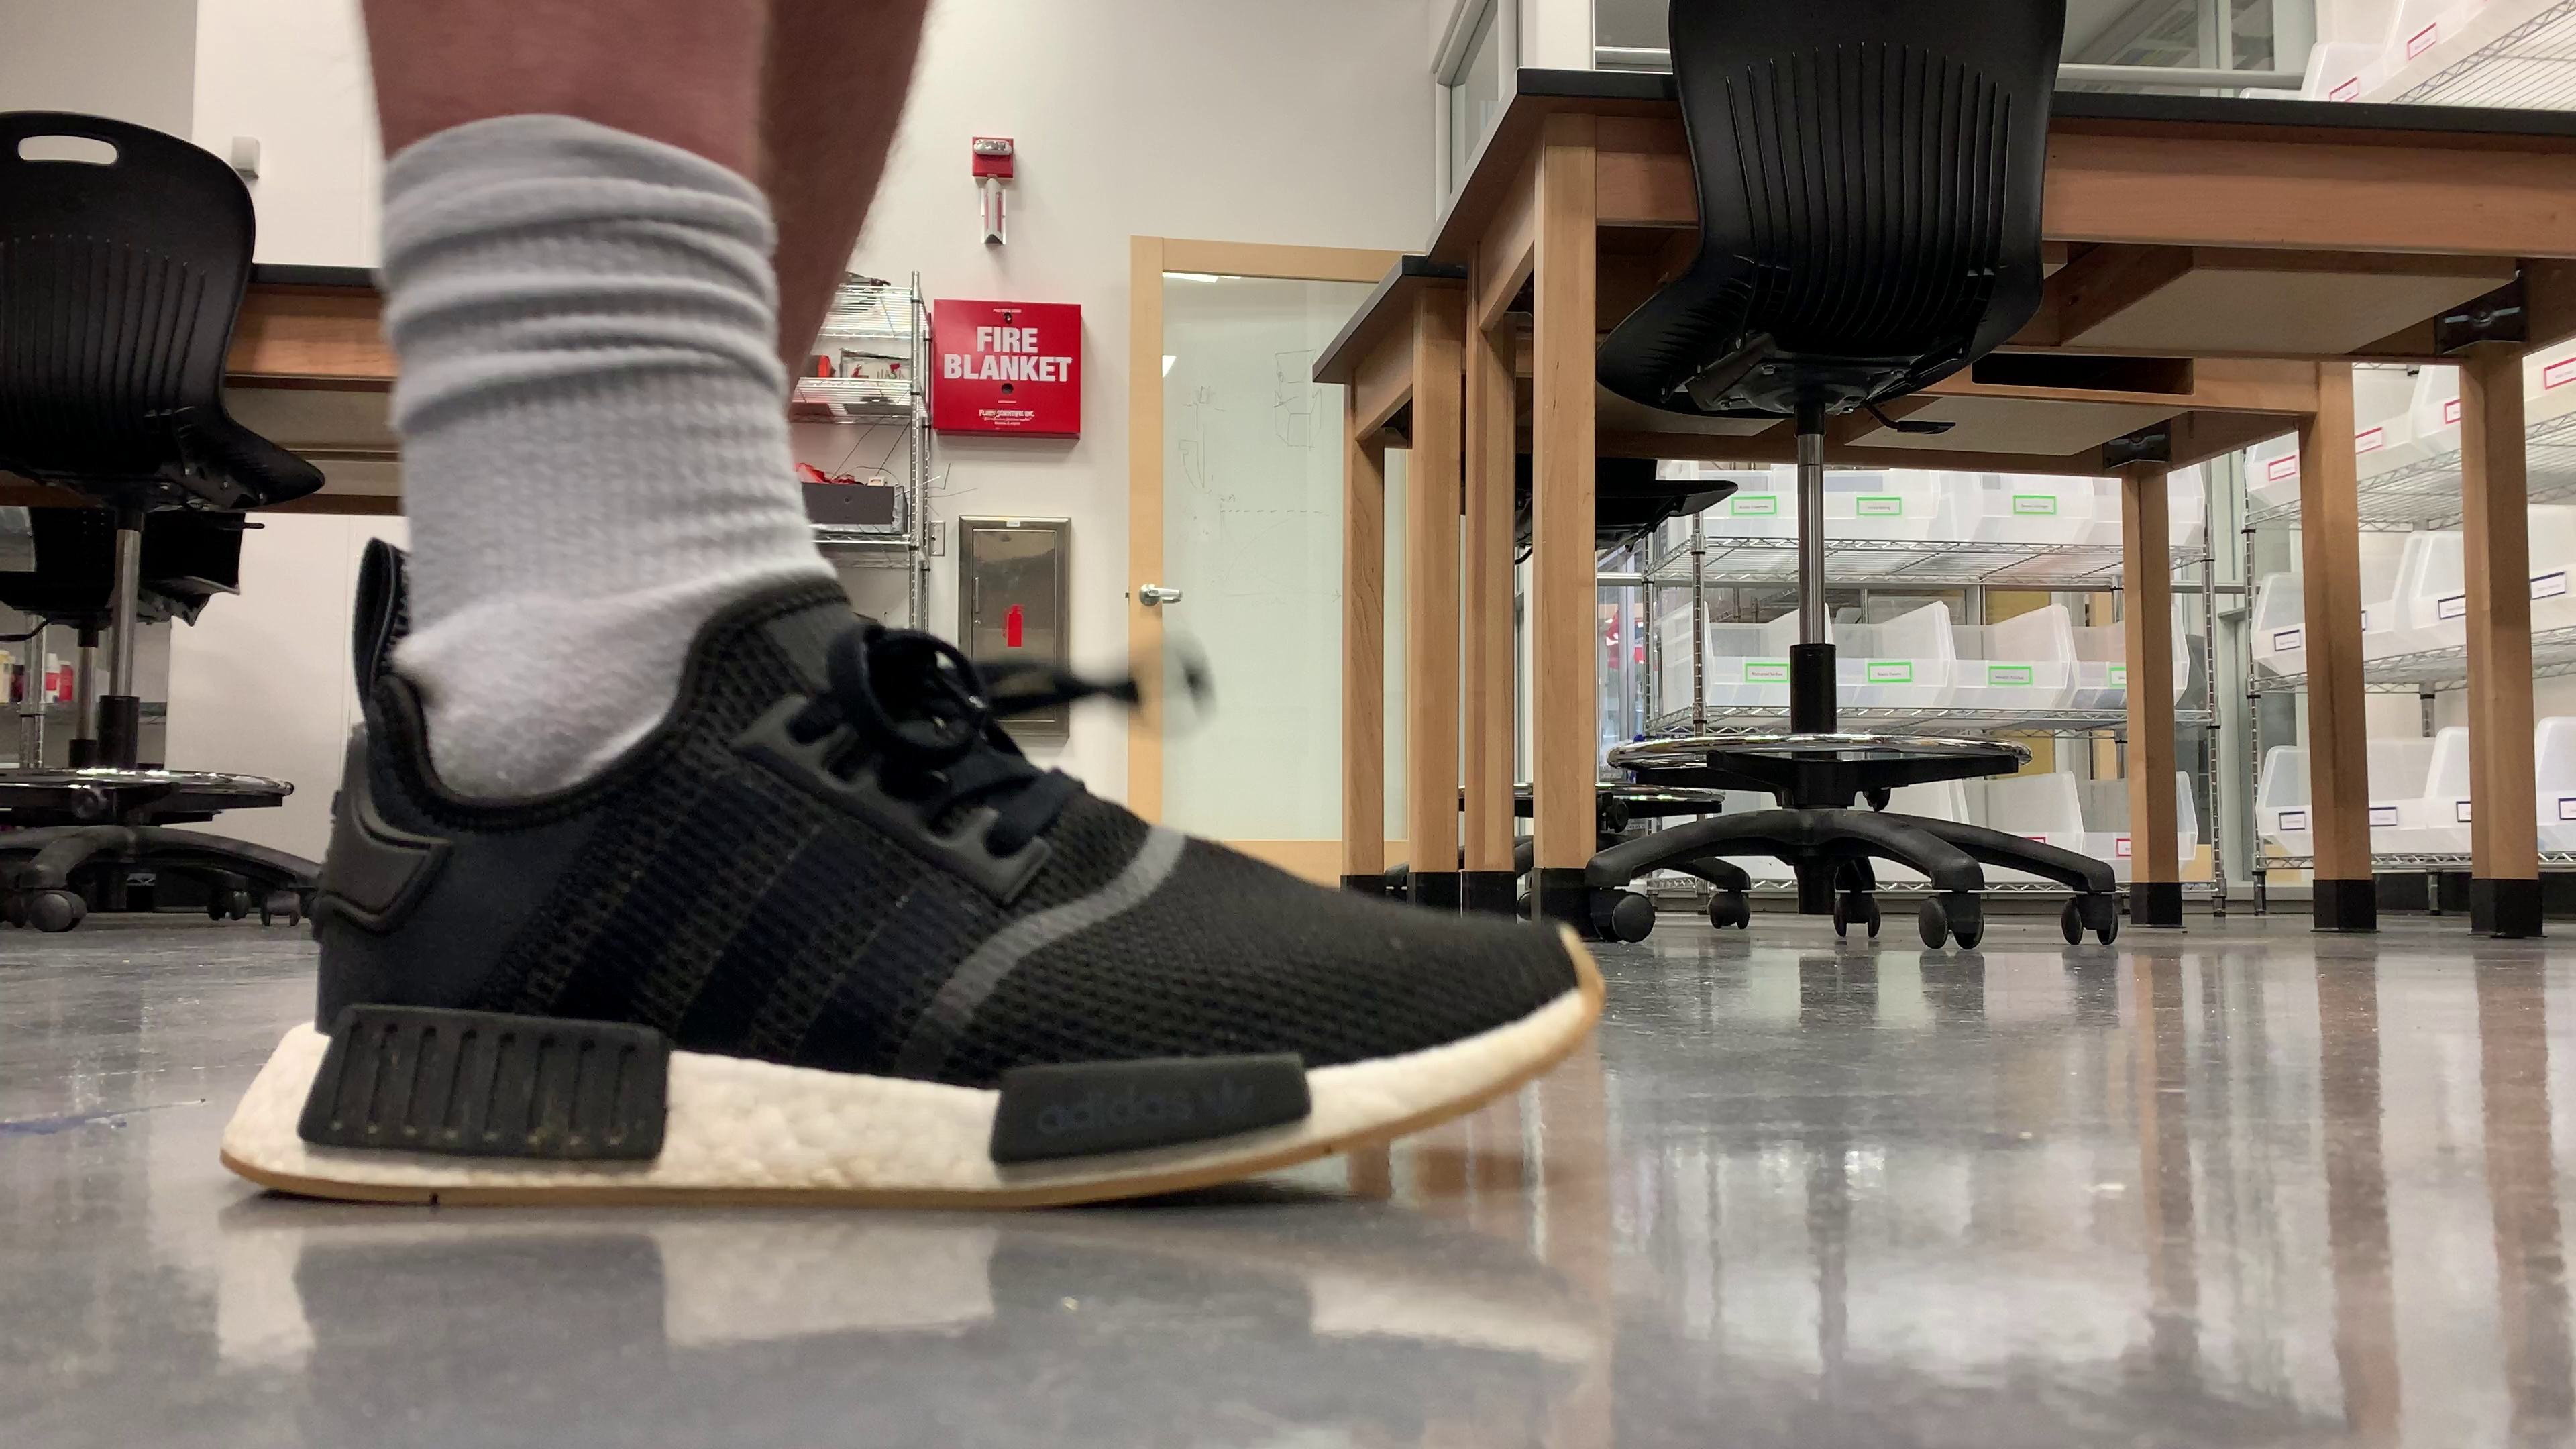shoe: (219, 577, 1606, 1207)
